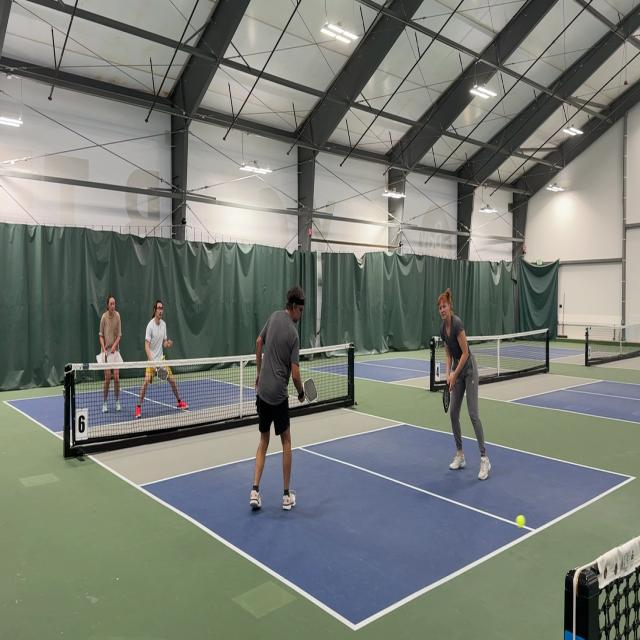ball: (515, 513, 527, 529)
